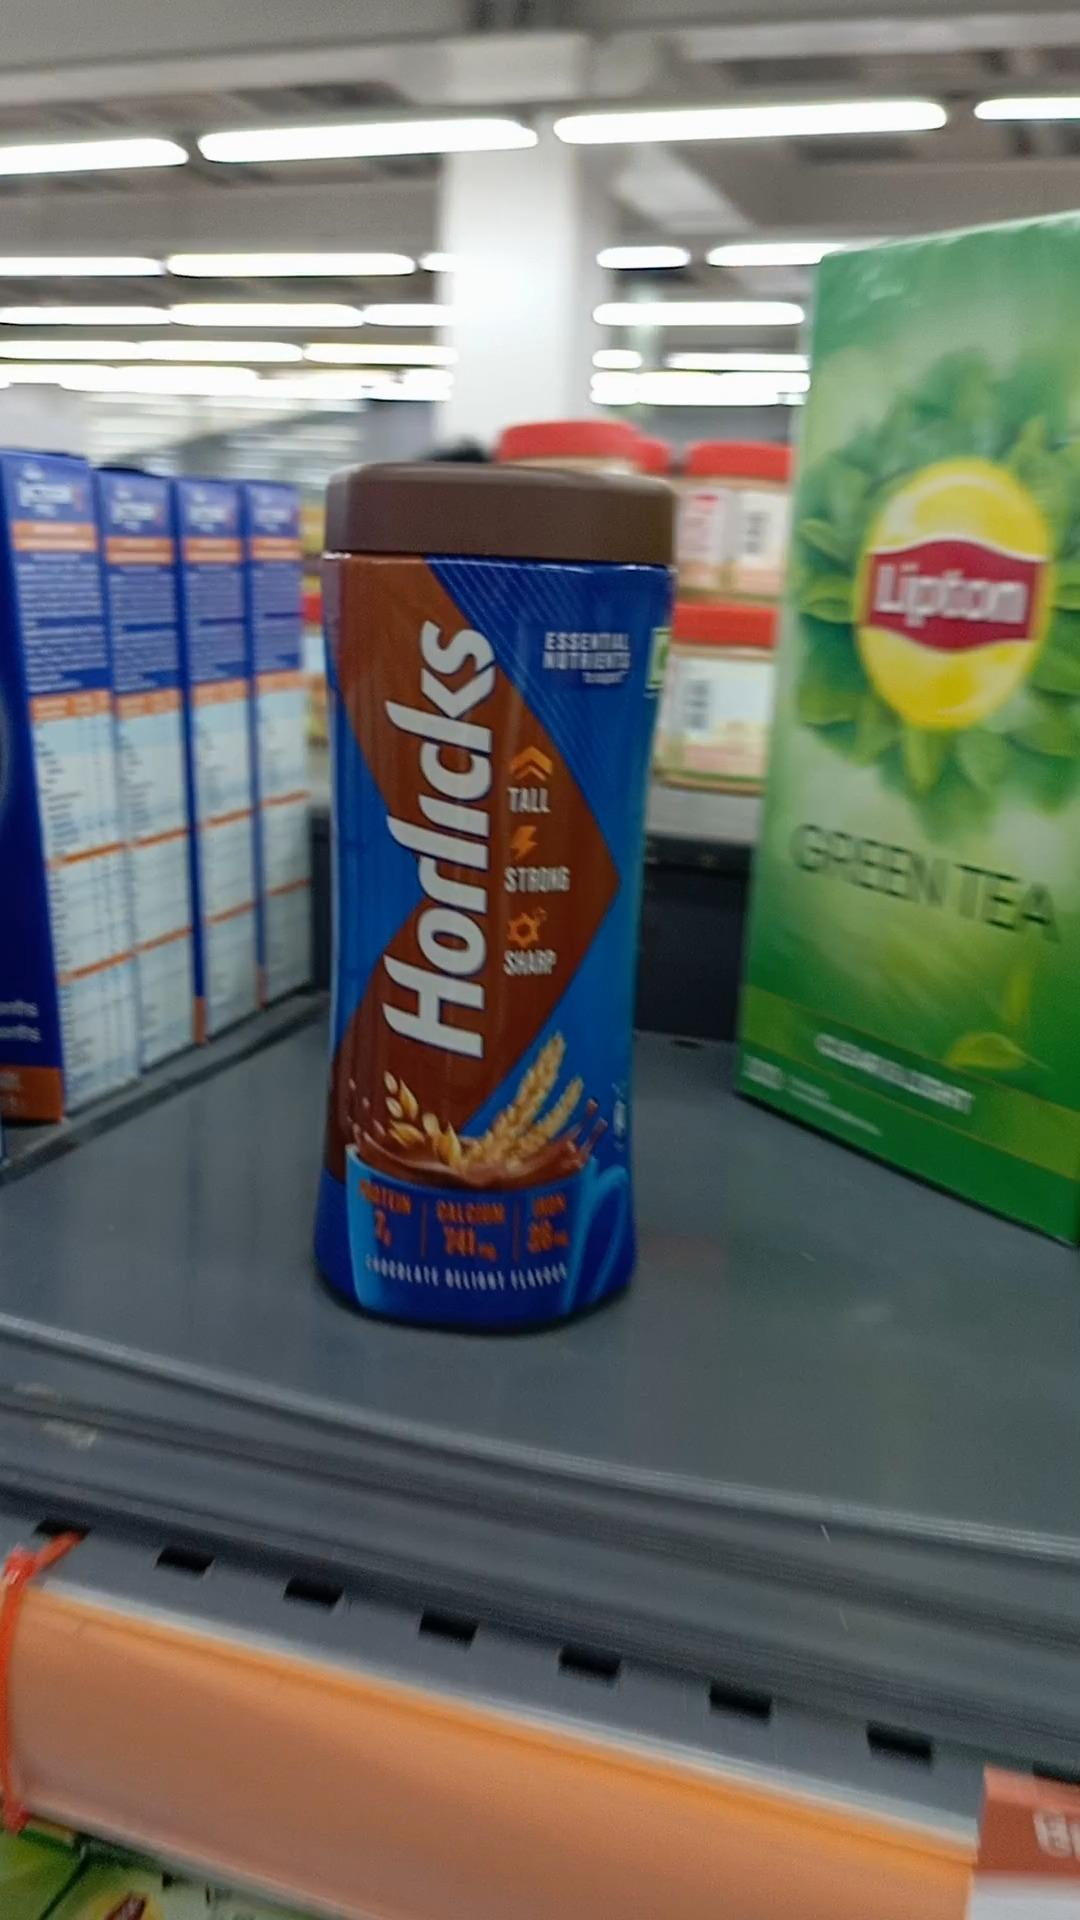HORLICK_CHOCOLATE_500_G_JAR: (311, 447, 632, 1340)
